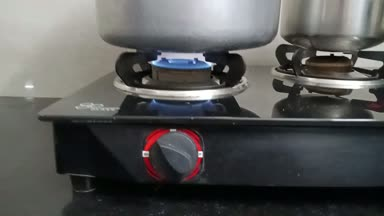flame_gas_on: (102, 37, 253, 187)
